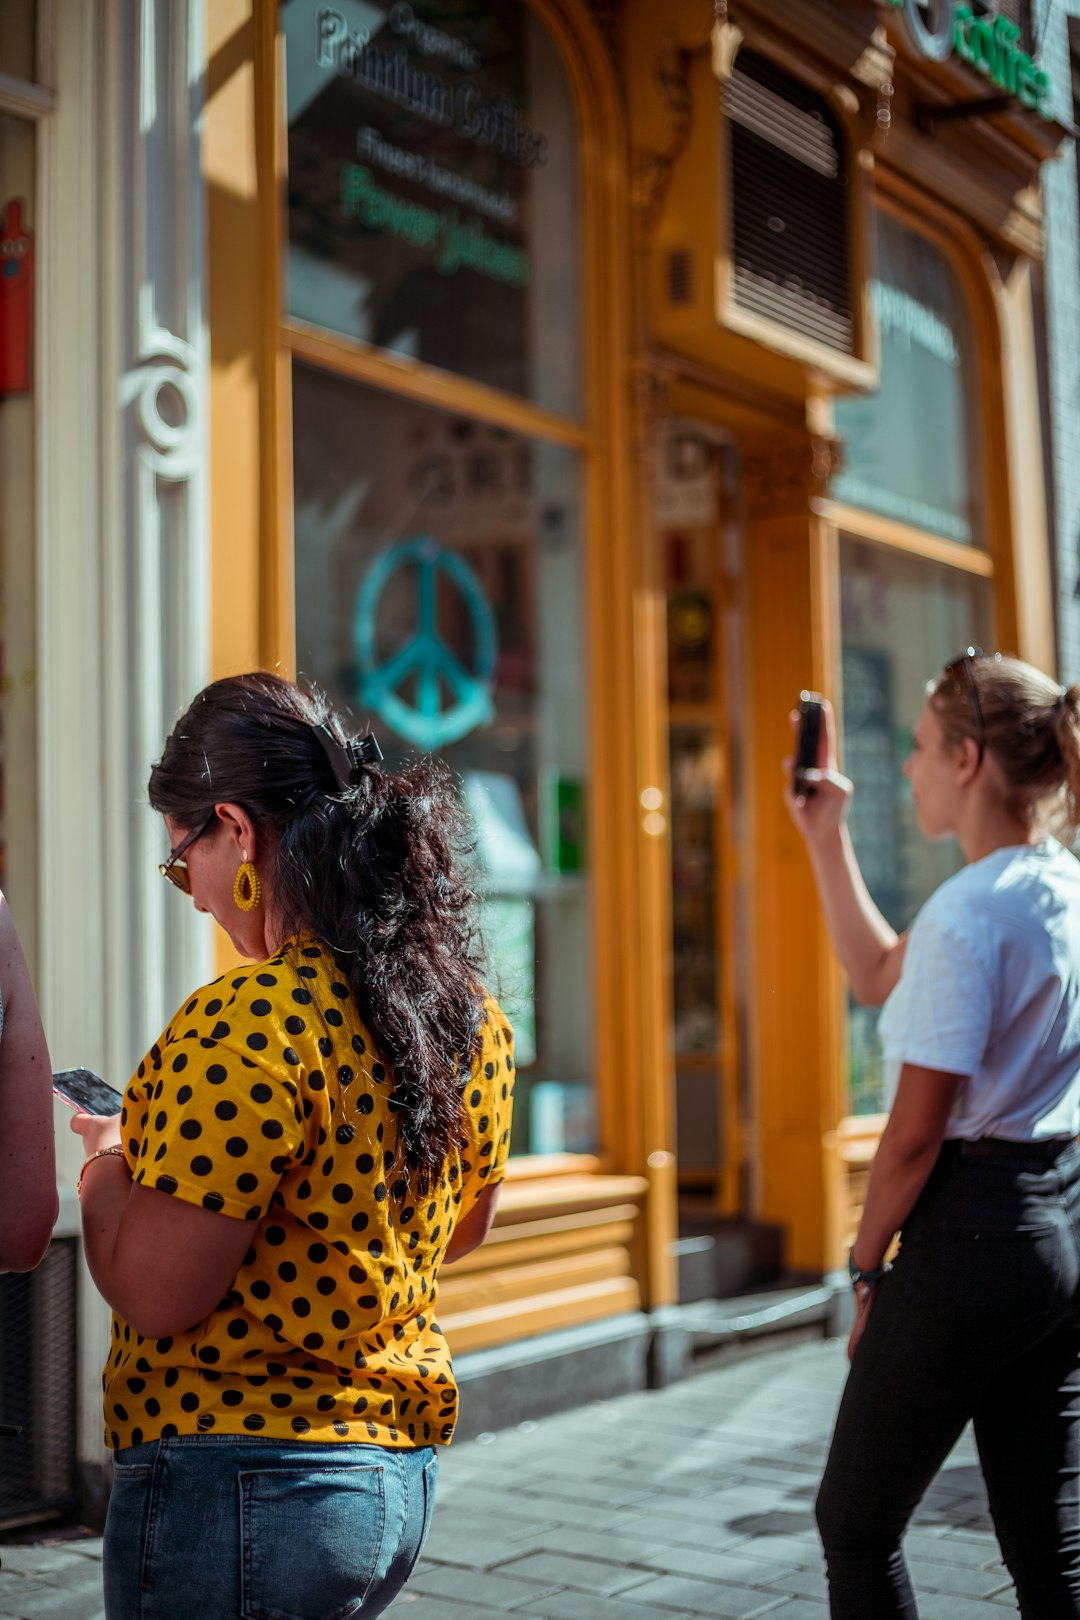phone: (41, 1066, 134, 1122), (790, 685, 826, 815)
